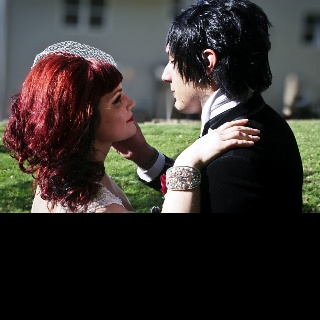without_mask: (159, 39, 216, 114), (101, 82, 136, 141)
